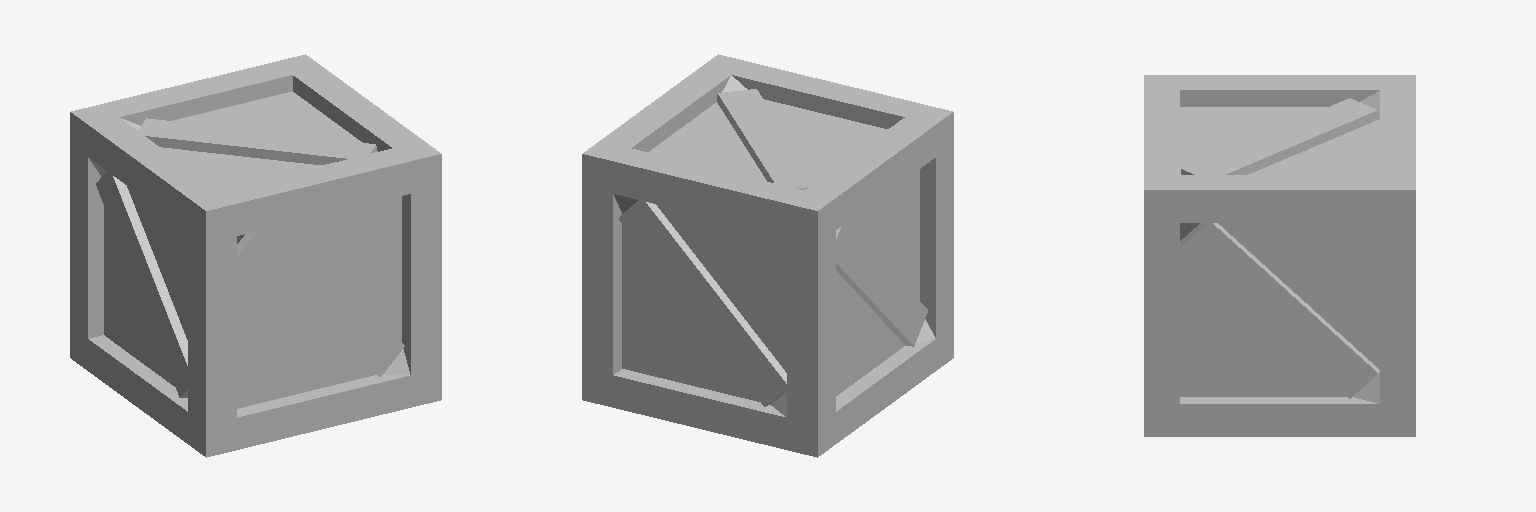
File: crate.obj
3 renders of one model, left to right at view 1: azimuth 30°, elevation 25°; view 2: azimuth 150°, elevation 25°; view 3: azimuth 270°, elevation 25°, orthographic.
Parts seen in each view (by area): view 1: Cube_Cube.001; view 2: Cube_Cube.001; view 3: Cube_Cube.001.
Boxes of the visible parts, box(x1,y1,x2,y2) form: Cube_Cube.001: box(70, 54, 441, 457); Cube_Cube.001: box(582, 54, 953, 457); Cube_Cube.001: box(1144, 75, 1415, 436).
Size of the model in its own units: 2 by 2 by 2.